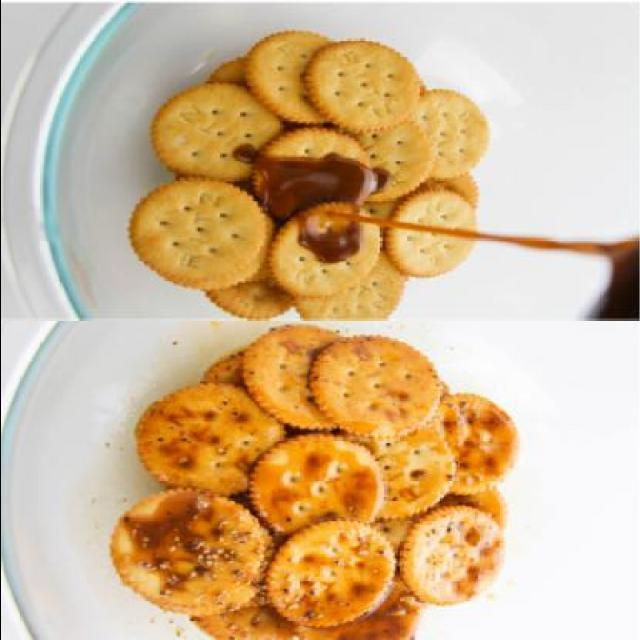Ritz cracker packaged: (96, 322, 522, 636), (127, 43, 504, 311)
